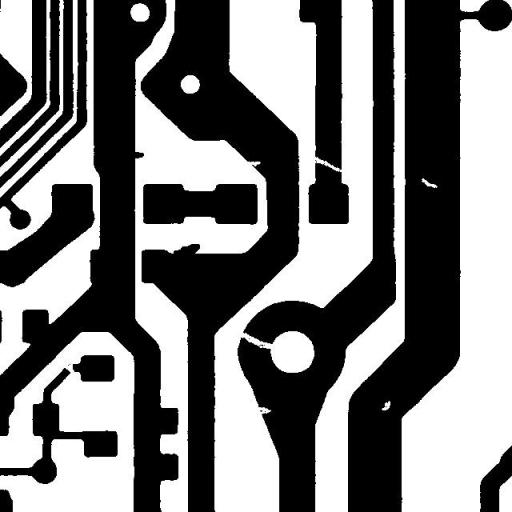mousebite: (246, 398, 278, 422), (237, 154, 268, 174)
open: (230, 323, 280, 356), (304, 148, 350, 179), (57, 354, 82, 383)
pin-hole: (414, 170, 444, 196), (374, 392, 398, 418)
spur: (166, 236, 207, 262), (119, 144, 151, 166)
